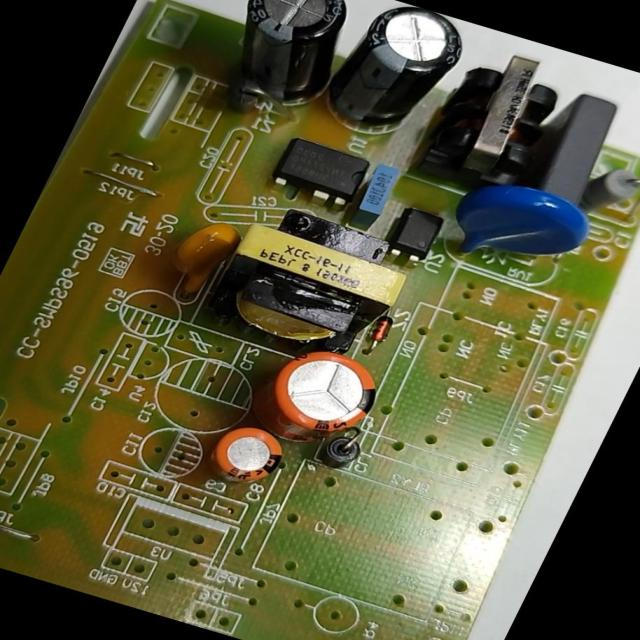Cap1: (240, 331, 404, 462)
Cap2: (201, 416, 299, 494)
Cap3: (307, 0, 481, 152)
Cap4: (202, 0, 372, 121)
MOSFET: (263, 132, 375, 215)
Mov: (433, 167, 605, 289)
Resistor: (570, 153, 639, 223)
Transformer: (190, 213, 420, 377), (416, 39, 592, 203)
